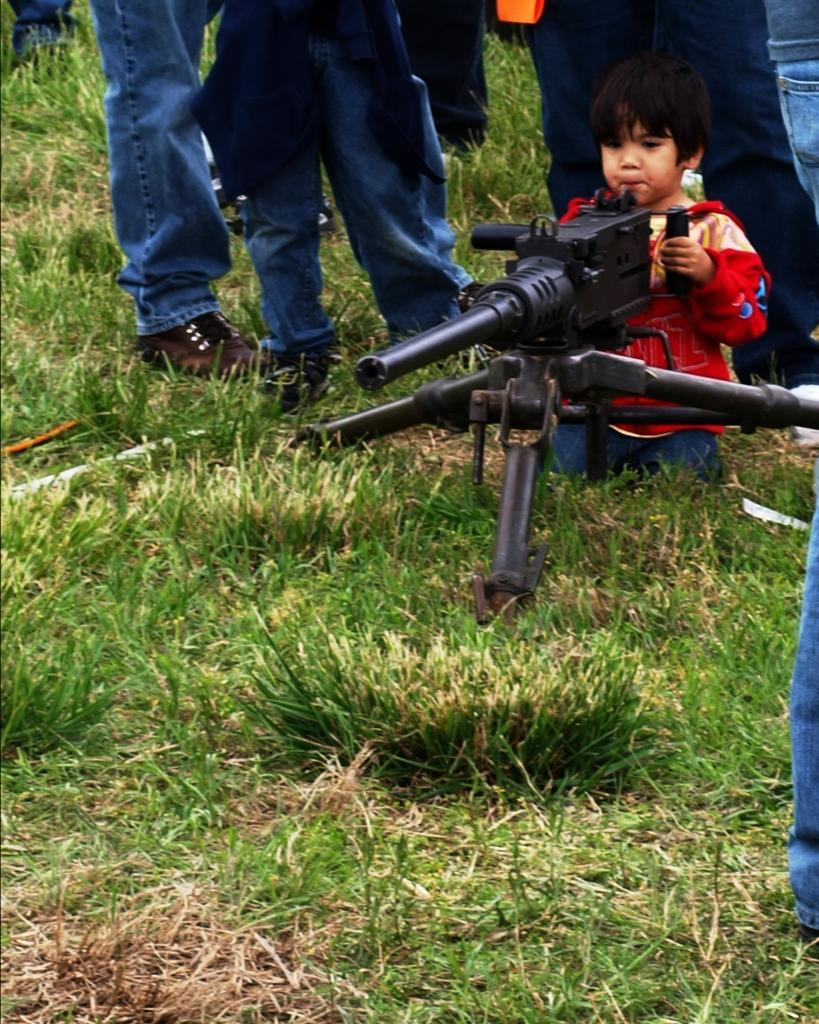gun: (330, 191, 688, 582)
